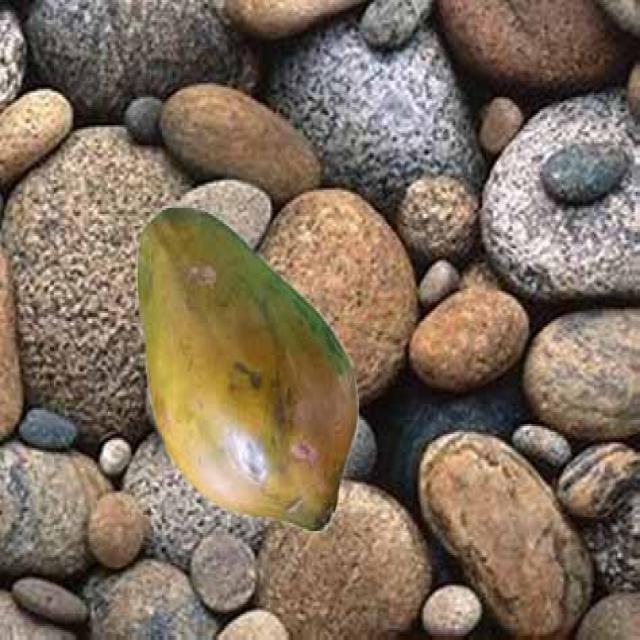Pepaya rippen: (136, 194, 364, 543)
